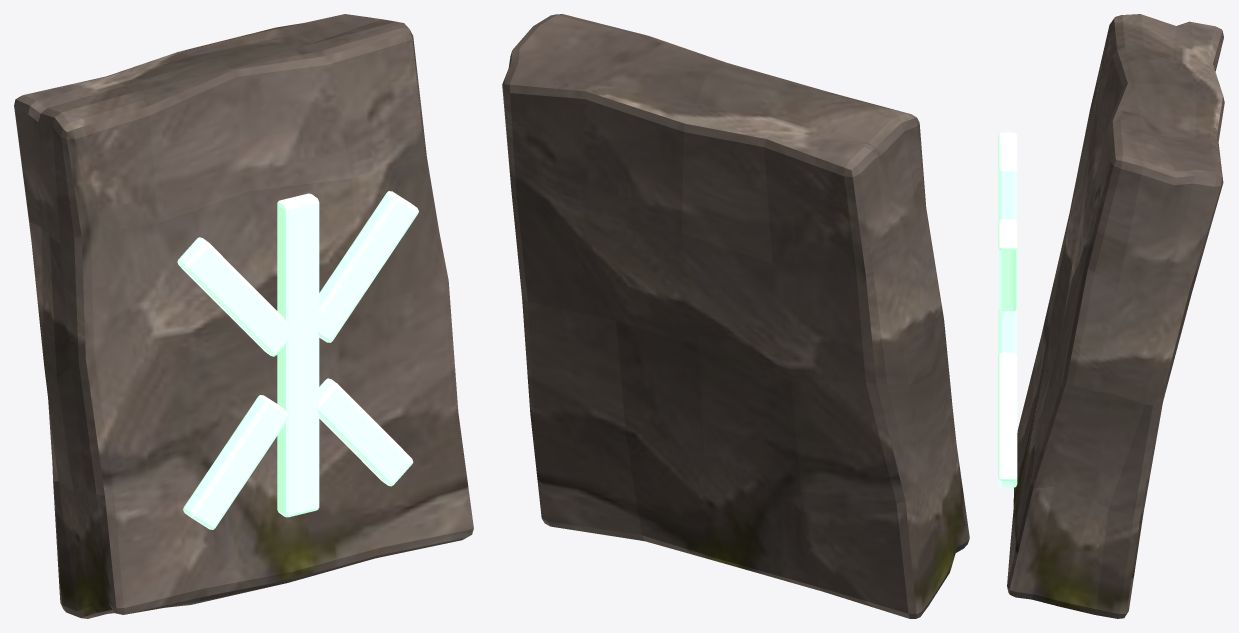
The model's file is rune_verdant.glb.
The picture shows the model from 3 angles, left to right: view 1: azimuth 30°, elevation 25°; view 2: azimuth 150°, elevation 25°; view 3: azimuth 270°, elevation 25°; orthographic projection. The views are drawn at different scales.
Visible parts, largest first — view 1: model; view 2: model; view 3: model.
Part boxes in pixels (left/top/right/bottom): model: left=14, top=14, right=473, bottom=618; model: left=502, top=14, right=969, bottom=618; model: left=998, top=14, right=1224, bottom=618.
Bounding box in the file's own units: 0.2111 × 0.2719 × 0.1193.
Materials: 2 (1 with a texture image).
